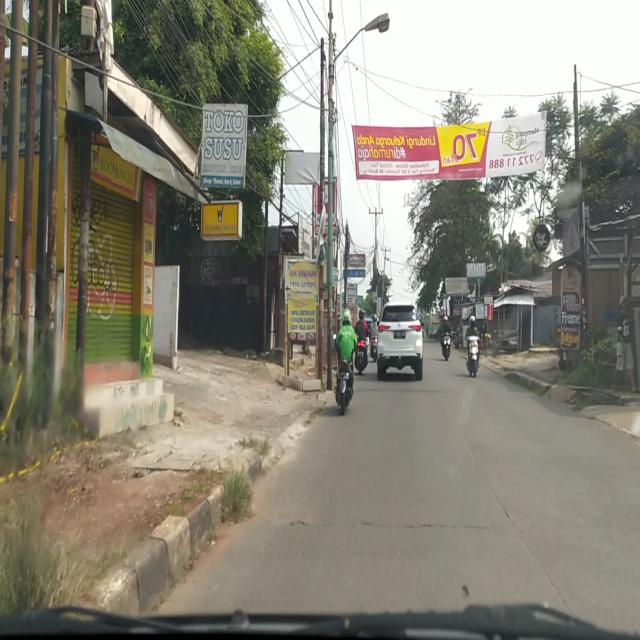Sewer Cover: (279, 517, 497, 534)
